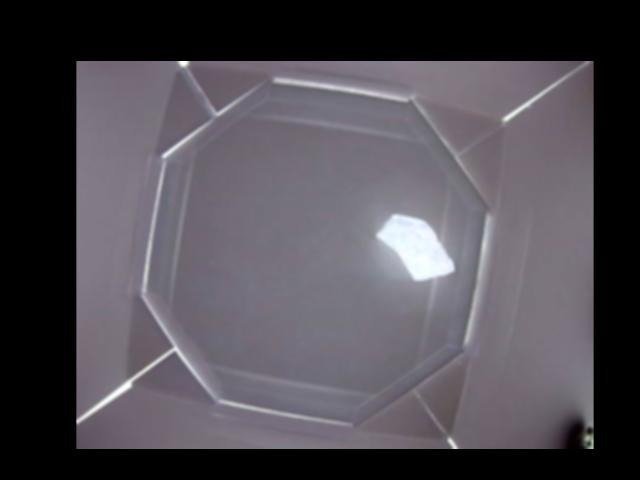China: (377, 212, 454, 281)
